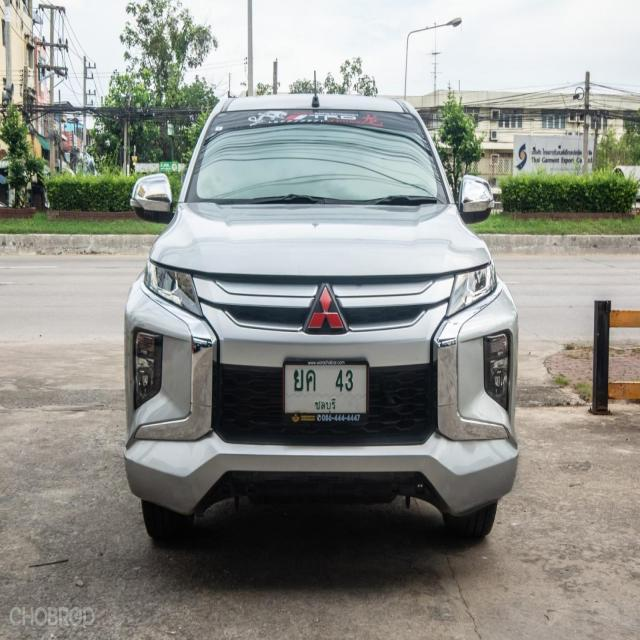license_plate: (284, 358, 370, 424)
